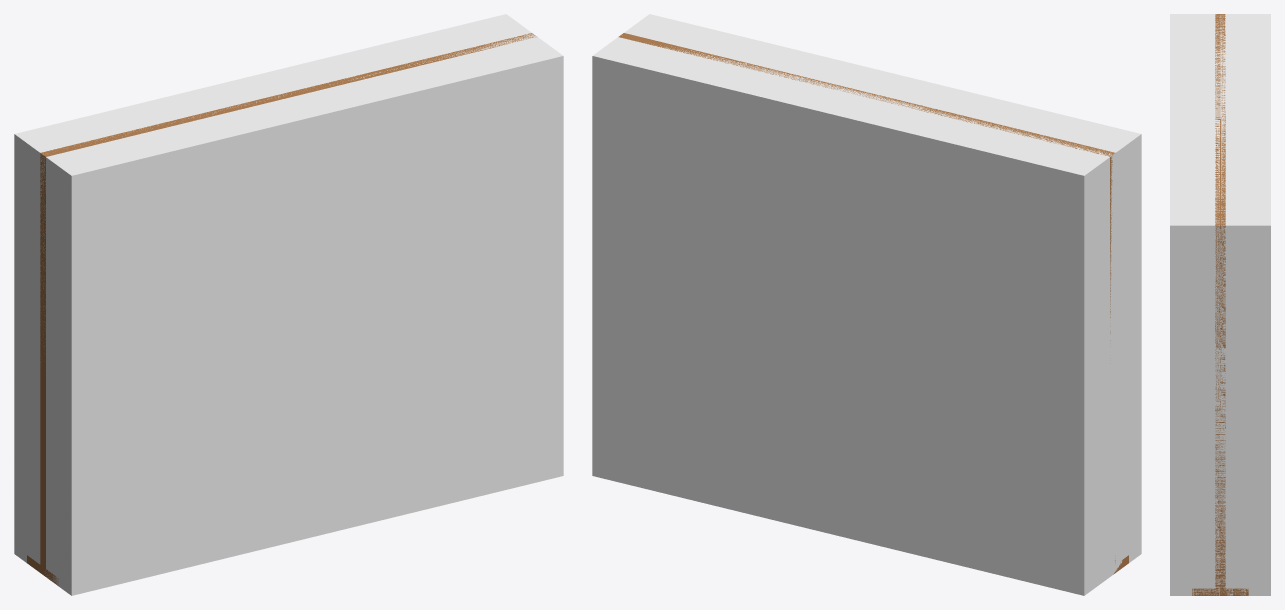
File: PANEL WINDOW.fbx
3 renders of one model, left to right at view 1: azimuth 30°, elevation 25°; view 2: azimuth 150°, elevation 25°; view 3: azimuth 270°, elevation 25°, orthographic. The views are drawn at different scales.
Visible parts, largest first — view 1: CTRL_Hole, Window; view 2: CTRL_Hole, Window; view 3: CTRL_Hole, Window.
Part boxes in pixels (x1,y1,x2,y2): CTRL_Hole: (14, 14, 563, 595); Window: (27, 33, 536, 586); CTRL_Hole: (592, 14, 1141, 595); Window: (618, 33, 1128, 574); CTRL_Hole: (1170, 14, 1270, 595); Window: (1192, 14, 1248, 595).
Bounding box in the file's own units: 250 × 204 × 50.4.
